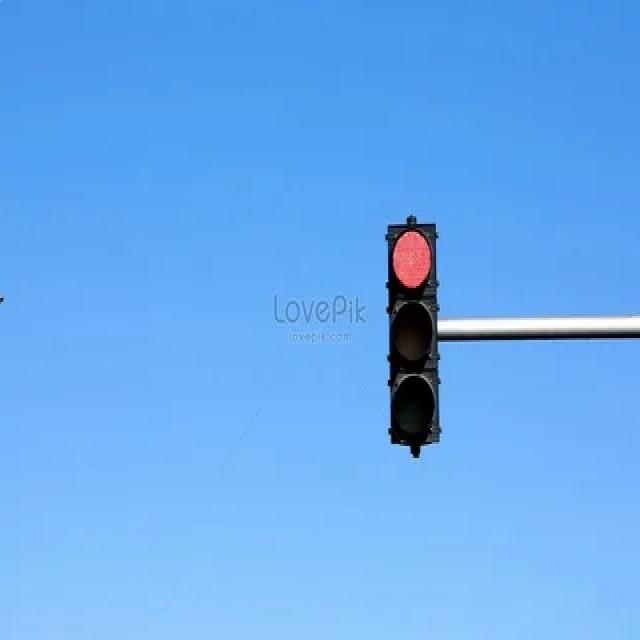kirmizi: (387, 228, 439, 441)
